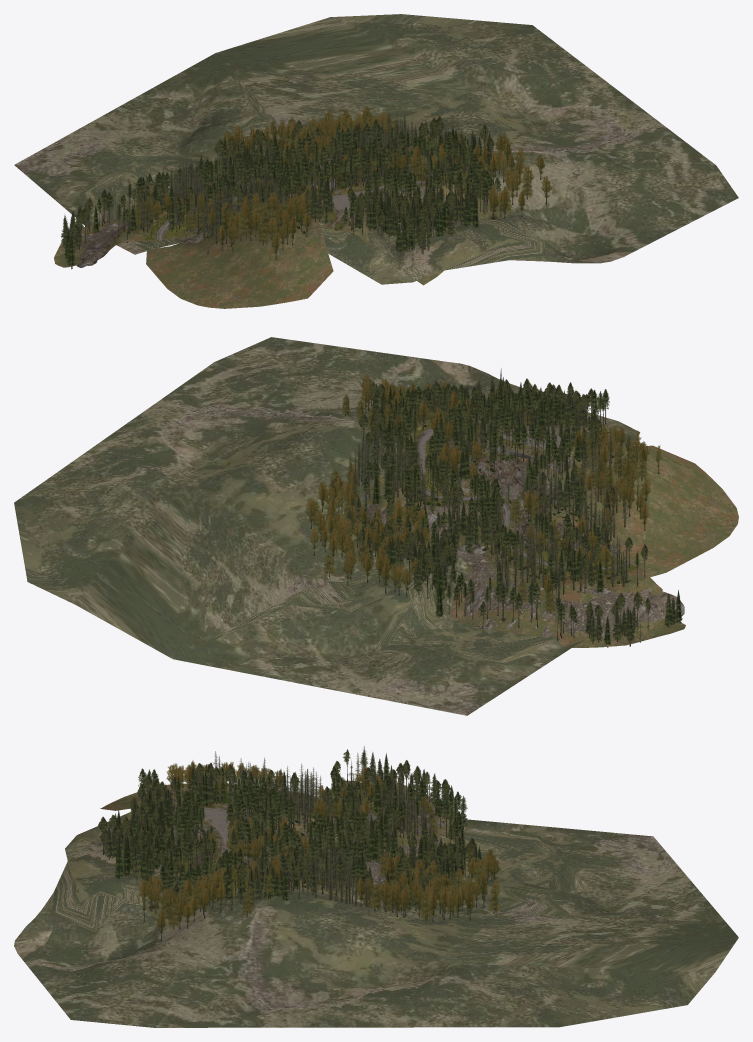
The model's file is forest-dirt-trail.glb.
The picture shows the model from 3 angles, top to bottom: view 1: azimuth 30°, elevation 25°; view 2: azimuth 150°, elevation 25°; view 3: azimuth 270°, elevation 25°; orthographic projection. The views are drawn at different scales.
Visible parts, largest first — view 1: Background_Tree_Atlas.020, Background_Tree_Atlas.001, Background_Tree_Atlas.021, Background_Tree_Atlas.006, Background_Tree_Atlas.019, Background_Tree_Atlas.024, Background_Tree_Atlas.004, Background_Tree_Atlas.025; view 2: Background_Tree_Atlas.020, Background_Tree_Atlas.001, Background_Tree_Atlas.021, Background_Tree_Atlas.019, Background_Tree_Atlas.006, Background_Tree_Atlas.022, Background_Tree_Atlas.024, Background_Tree_Atlas.013, Background_Tree_Atlas.025; view 3: Background_Tree_Atlas.020, Background_Tree_Atlas.001, Background_Tree_Atlas.006, Background_Tree_Atlas.021, Background_Tree_Atlas.019, Background_Tree_Atlas.004, Background_Tree_Atlas.024, Background_Tree_Atlas.013, Background_Tree_Atlas.025.
Boxes of the visible parts, x1,y1,x2,y2 form: Background_Tree_Atlas.020: (14,14,738,284); Background_Tree_Atlas.001: (61,105,551,266); Background_Tree_Atlas.021: (54,158,512,308); Background_Tree_Atlas.006: (66,115,527,269); Background_Tree_Atlas.019: (76,157,425,267); Background_Tree_Atlas.024: (146,162,445,240); Background_Tree_Atlas.004: (148,137,546,260); Background_Tree_Atlas.025: (156,171,432,239); Background_Tree_Atlas.020: (14,337,640,715); Background_Tree_Atlas.001: (305,368,682,644); Background_Tree_Atlas.021: (363,413,738,647); Background_Tree_Atlas.019: (362,424,684,640); Background_Tree_Atlas.006: (314,393,678,647); Background_Tree_Atlas.022: (468,455,618,558); Background_Tree_Atlas.024: (398,424,637,574); Background_Tree_Atlas.013: (417,427,628,569); Background_Tree_Atlas.025: (418,427,631,570); Background_Tree_Atlas.020: (14,801,738,1027); Background_Tree_Atlas.001: (98,749,500,936); Background_Tree_Atlas.006: (103,746,494,929); Background_Tree_Atlas.021: (100,780,470,922); Background_Tree_Atlas.019: (172,780,468,905); Background_Tree_Atlas.004: (143,779,494,940); Background_Tree_Atlas.024: (161,793,388,884); Background_Tree_Atlas.013: (175,804,377,872); Background_Tree_Atlas.025: (172,795,378,879).
Size of the model in its own units: 526 by 111 by 546.
Materials: 26 (26 with a texture image).
